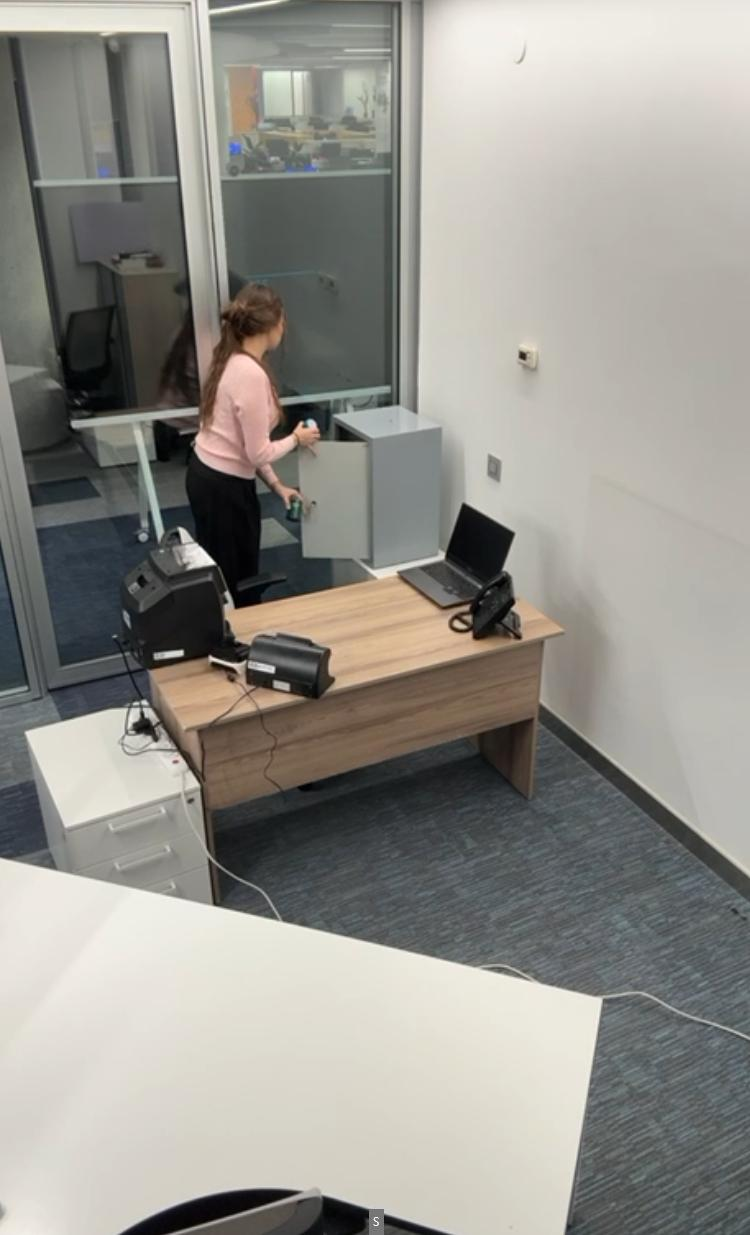counter: (119, 539, 236, 672)
safe_open: (292, 404, 440, 574)
uv_lamp: (243, 630, 341, 703)
